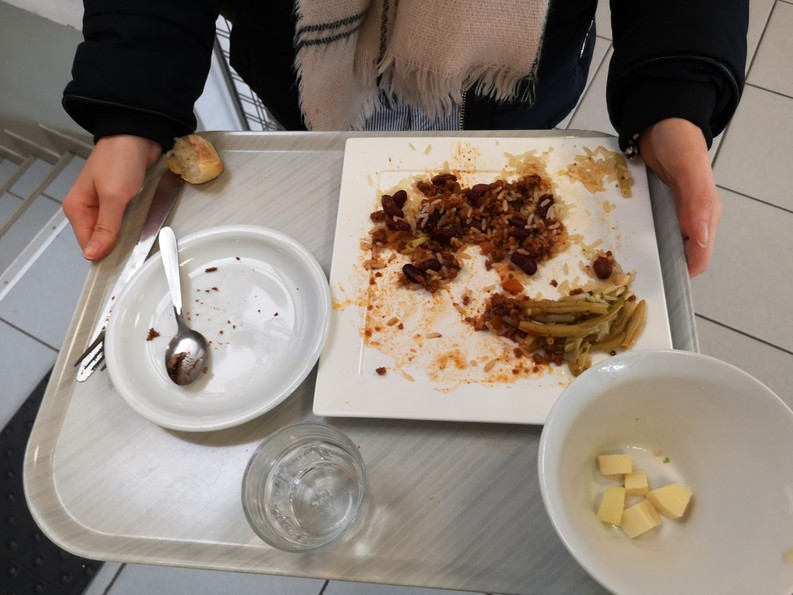cup: (231, 424, 395, 565)
cutlery: (75, 167, 184, 385), (153, 223, 219, 383)
orga: (373, 174, 562, 283), (470, 251, 652, 357), (595, 434, 700, 537), (166, 141, 234, 183)
